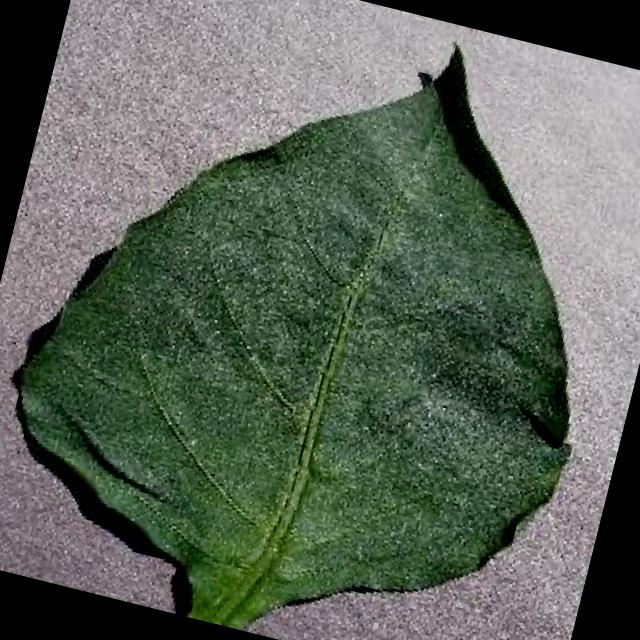Leaf: (51, 335, 214, 522)
